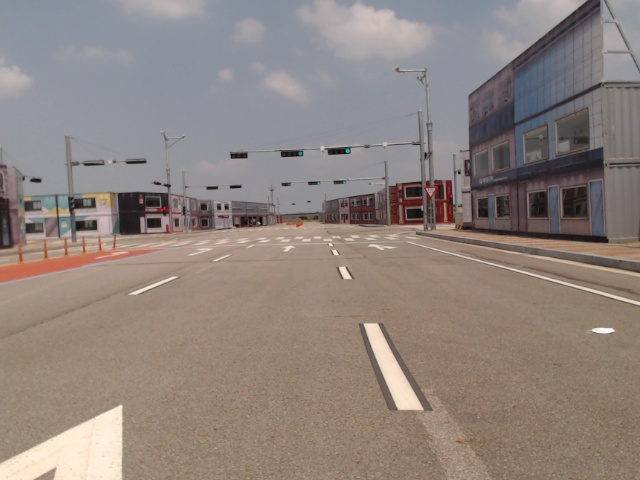straight_green_4: (328, 148, 352, 155), (283, 149, 304, 156), (333, 180, 348, 185), (307, 181, 321, 186)
